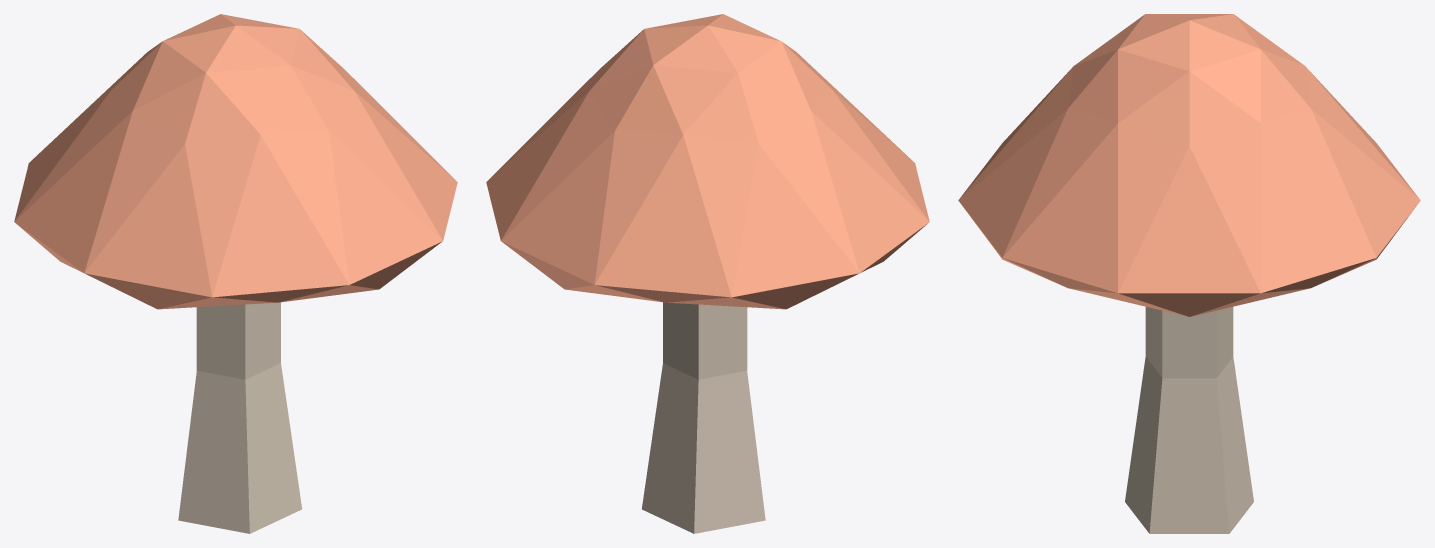
Rendered from mushroom-2.fbx.
3 views of the same model, side by side, from view 1: azimuth 30°, elevation 25°; view 2: azimuth 150°, elevation 25°; view 3: azimuth 270°, elevation 25° (orthographic).
Parts seen in each view (by area): view 1: Icosphere, Icosphere.001; view 2: Icosphere, Icosphere.001; view 3: Icosphere, Icosphere.001.
Part boxes in pixels (x1=…): Icosphere: x1=14, y1=14, x2=457, y2=309; Icosphere.001: x1=178, y1=302, x2=301, y2=533; Icosphere: x1=486, y1=14, x2=929, y2=309; Icosphere.001: x1=642, y1=302, x2=765, y2=533; Icosphere: x1=958, y1=14, x2=1420, y2=316; Icosphere.001: x1=1125, y1=307, x2=1253, y2=533.
Size of the model in its own units: 190 by 234 by 200.
